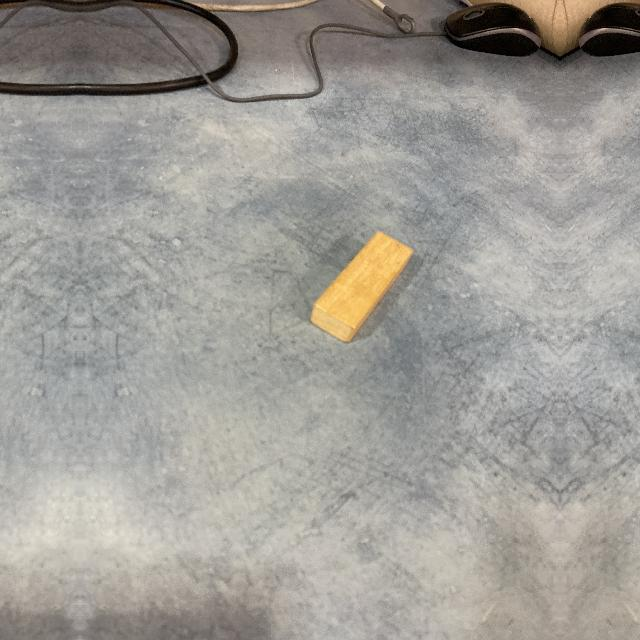jenga: (309, 233, 414, 345)
